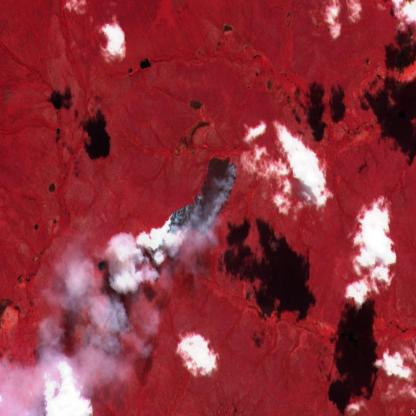fire: (159, 156, 239, 250)
